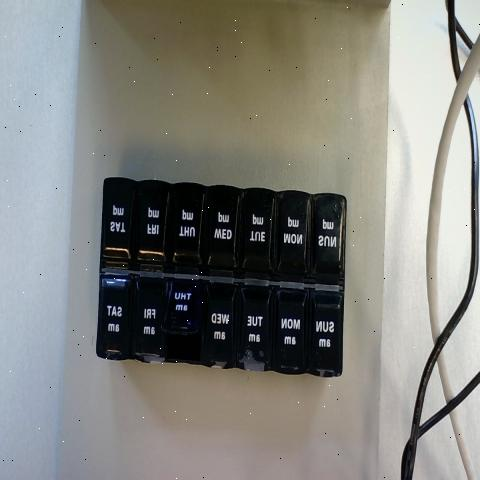FRI-am: (136, 274, 168, 352)
FRI-pm: (138, 188, 170, 260)
MON-am: (274, 289, 310, 369)
MON-pm: (275, 195, 308, 277)
Open: (167, 287, 204, 361)
PillBox: (78, 146, 361, 395)
SAT-am: (98, 275, 134, 358)
SAT-pm: (103, 183, 134, 262)
SUN-am: (311, 294, 343, 376)
SUN-pm: (313, 197, 346, 284)
THU-pm: (172, 188, 204, 264)
TUE-am: (240, 286, 272, 366)
TUE-pm: (243, 192, 272, 274)
WED-am: (205, 280, 239, 364)
WED-pm: (207, 194, 239, 274)
